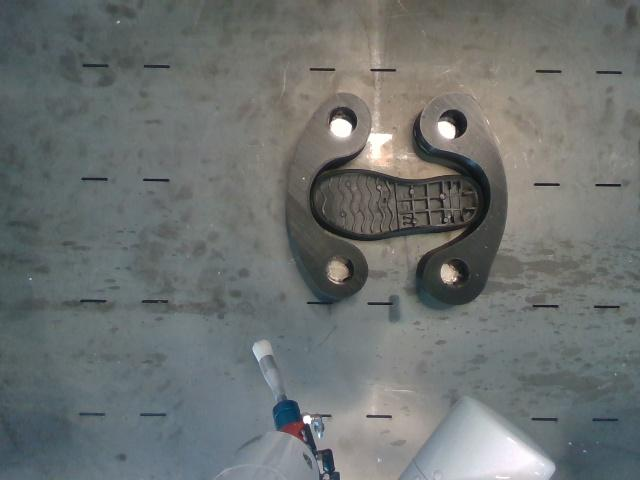shoes: (314, 171, 483, 237)
